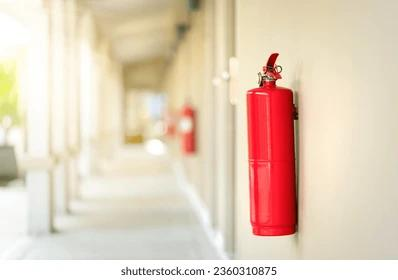wall-mounted: (225, 34, 333, 245)
